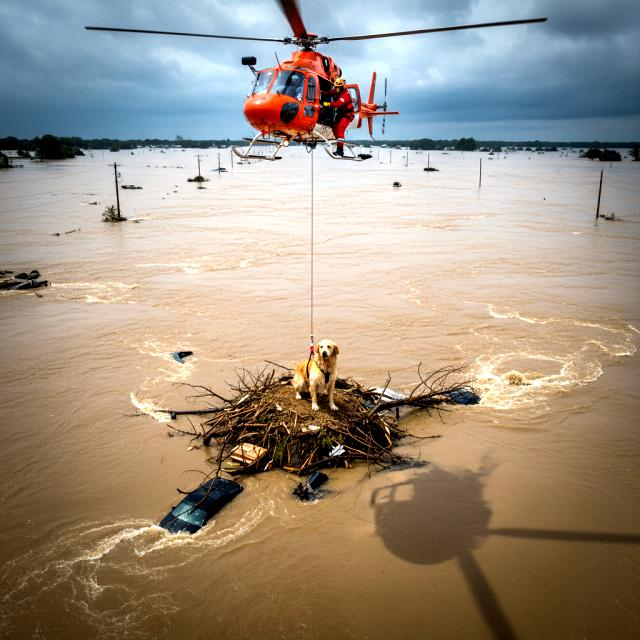dog: (280, 328, 349, 418)
rescuer: (322, 70, 357, 164)
